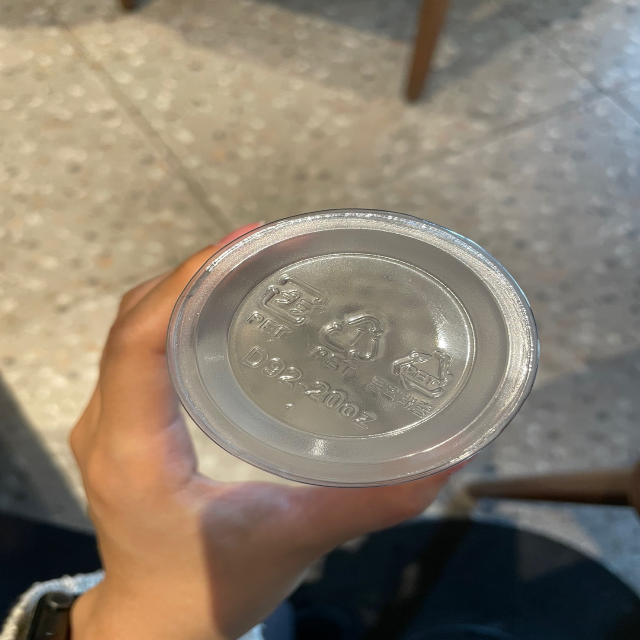pet: (367, 347, 457, 414), (244, 270, 326, 340), (313, 307, 387, 377)
